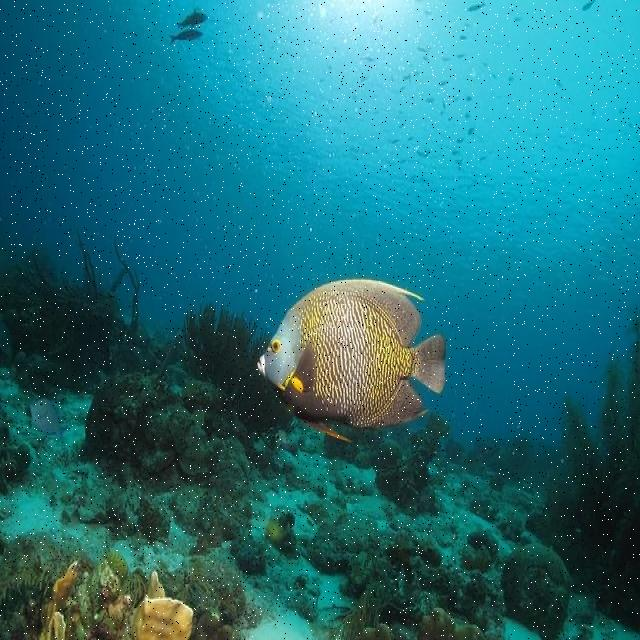aquatic plants: (0, 317, 639, 639), (5, 233, 299, 439)
fish: (255, 280, 446, 444), (29, 398, 68, 440), (177, 9, 209, 30), (168, 29, 203, 47)
sea-floor: (307, 514, 566, 639), (89, 369, 253, 487)
